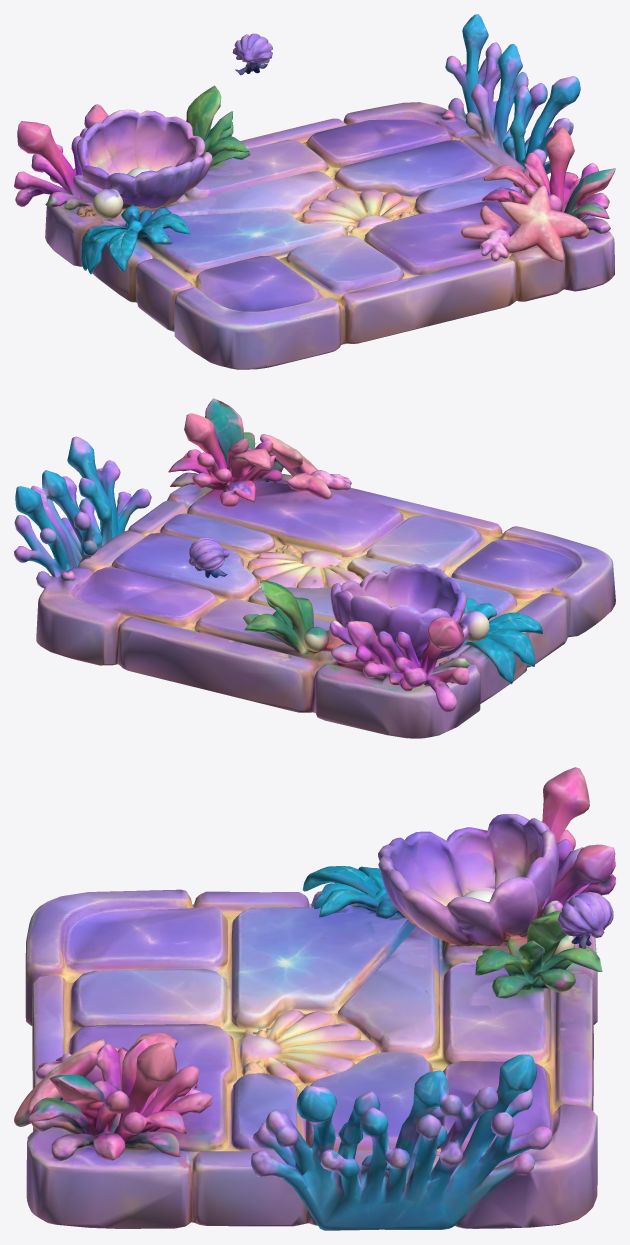
File: pearl-path-landing.glb
3 views of the same model, one above another, from view 1: azimuth 30°, elevation 25°; view 2: azimuth 150°, elevation 25°; view 3: azimuth 270°, elevation 25° (orthographic). The views are drawn at different scales.
Visible parts, largest first — view 1: node_0; view 2: node_0; view 3: node_0.
Part boxes in pixels (x1=…): node_0: x1=14, y1=14, x2=615, y2=369; node_0: x1=14, y1=398, x2=615, y2=738; node_0: x1=14, y1=767, x2=615, y2=1230.
Bounding box in the file's own units: 1.01 × 0.2949 × 0.7709.
1 material, 1 textured.
